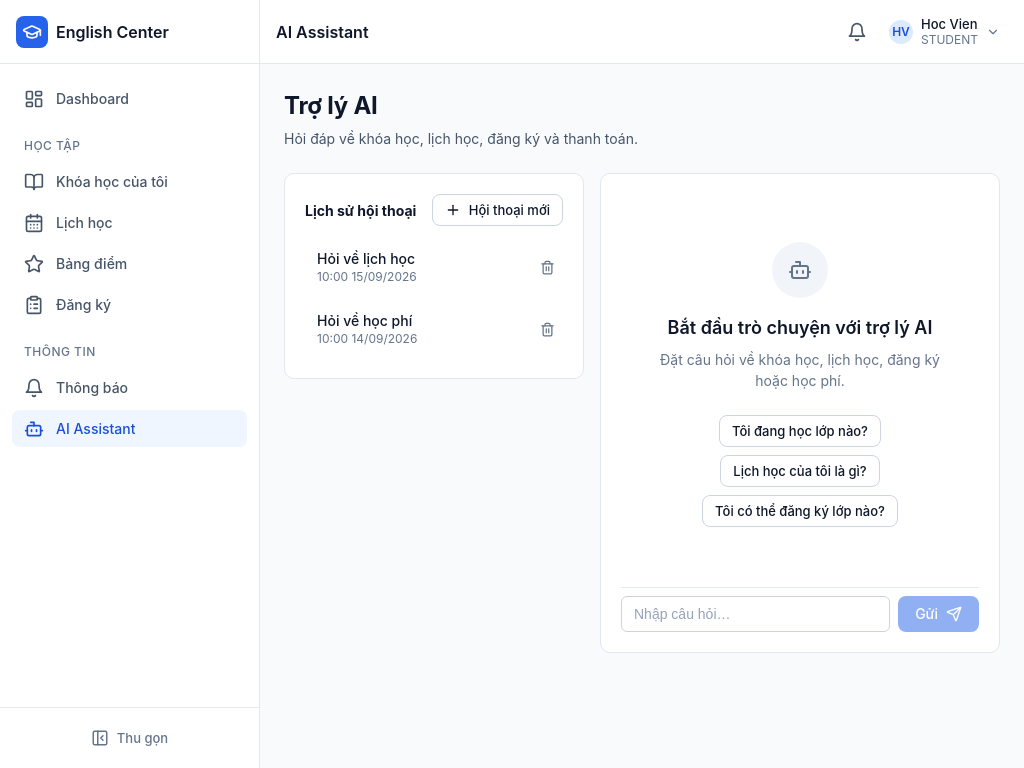
Test: AiChatPage › opens a conversation and renders its messages
Click the button "Hỏi về lịch học 10:00 15/09/2026" at (416, 267), box x1=305 y1=238 x2=527 y2=296
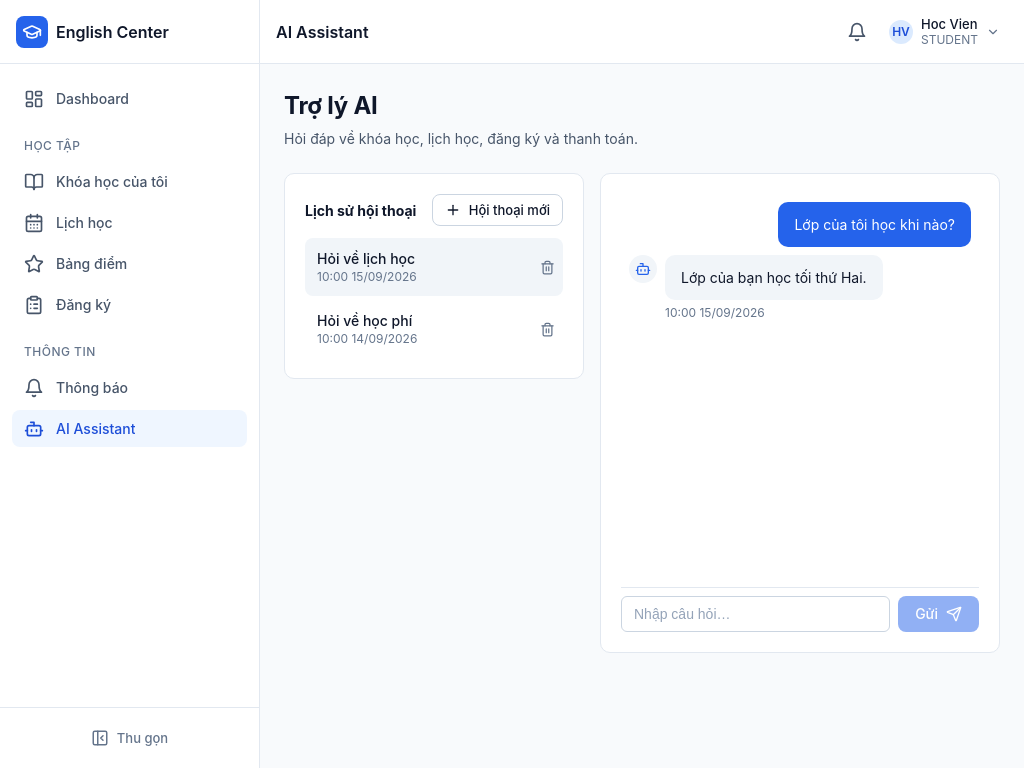
Now the text "Lớp của tôi học khi nào?" is shown, box x1=778 y1=202 x2=971 y2=247
Now the text "Lớp của bạn học tối thứ Hai." is shown, box x1=665 y1=255 x2=883 y2=300
